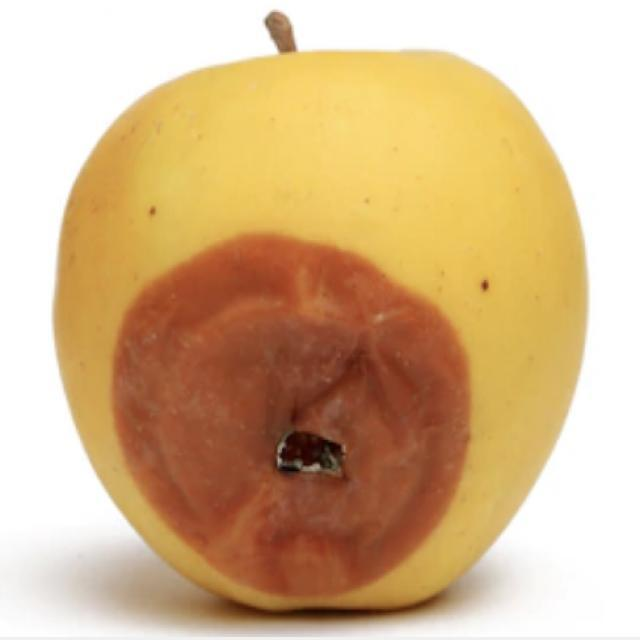Rotten: (46, 58, 603, 640)
